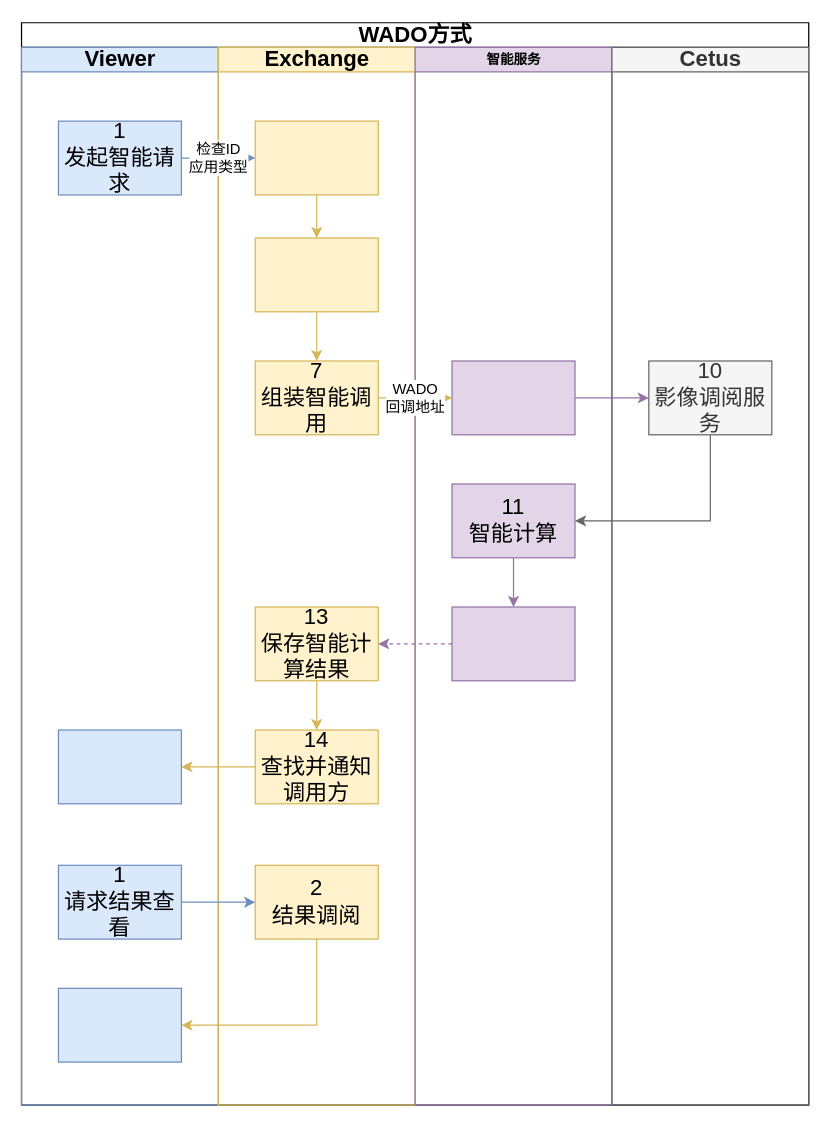
The diagram is 830 pixels wide and 1127 high, and some of its shapes have lost their labels. Each missing label, with the centre of its shape:
"12 返回智能计算结果" goes at pixel 513 643.
"15 通知结果完成" goes at pixel 119 766.
"3 返回结果查看" goes at pixel 119 1024.
"5 接收智能调用" goes at pixel 316 157.
"6 记录调用方 生成异步请求" goes at pixel 316 274.
"8 接收智能调用" goes at pixel 513 397.
